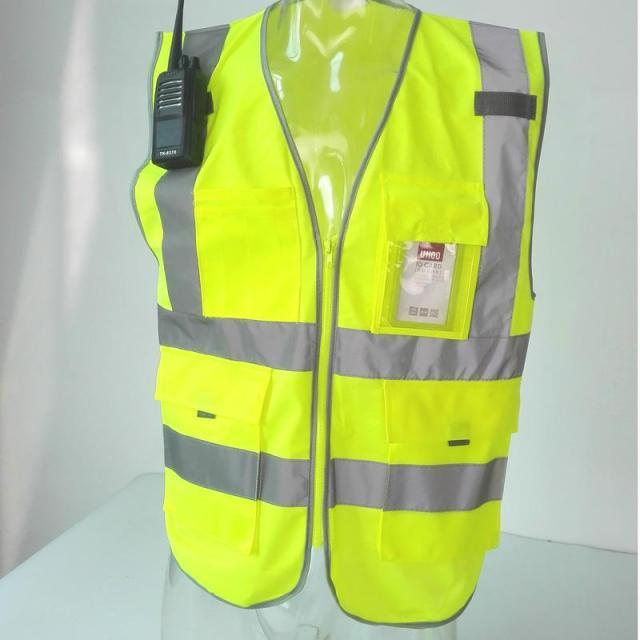reflective_jacket: (118, 1, 567, 636)
